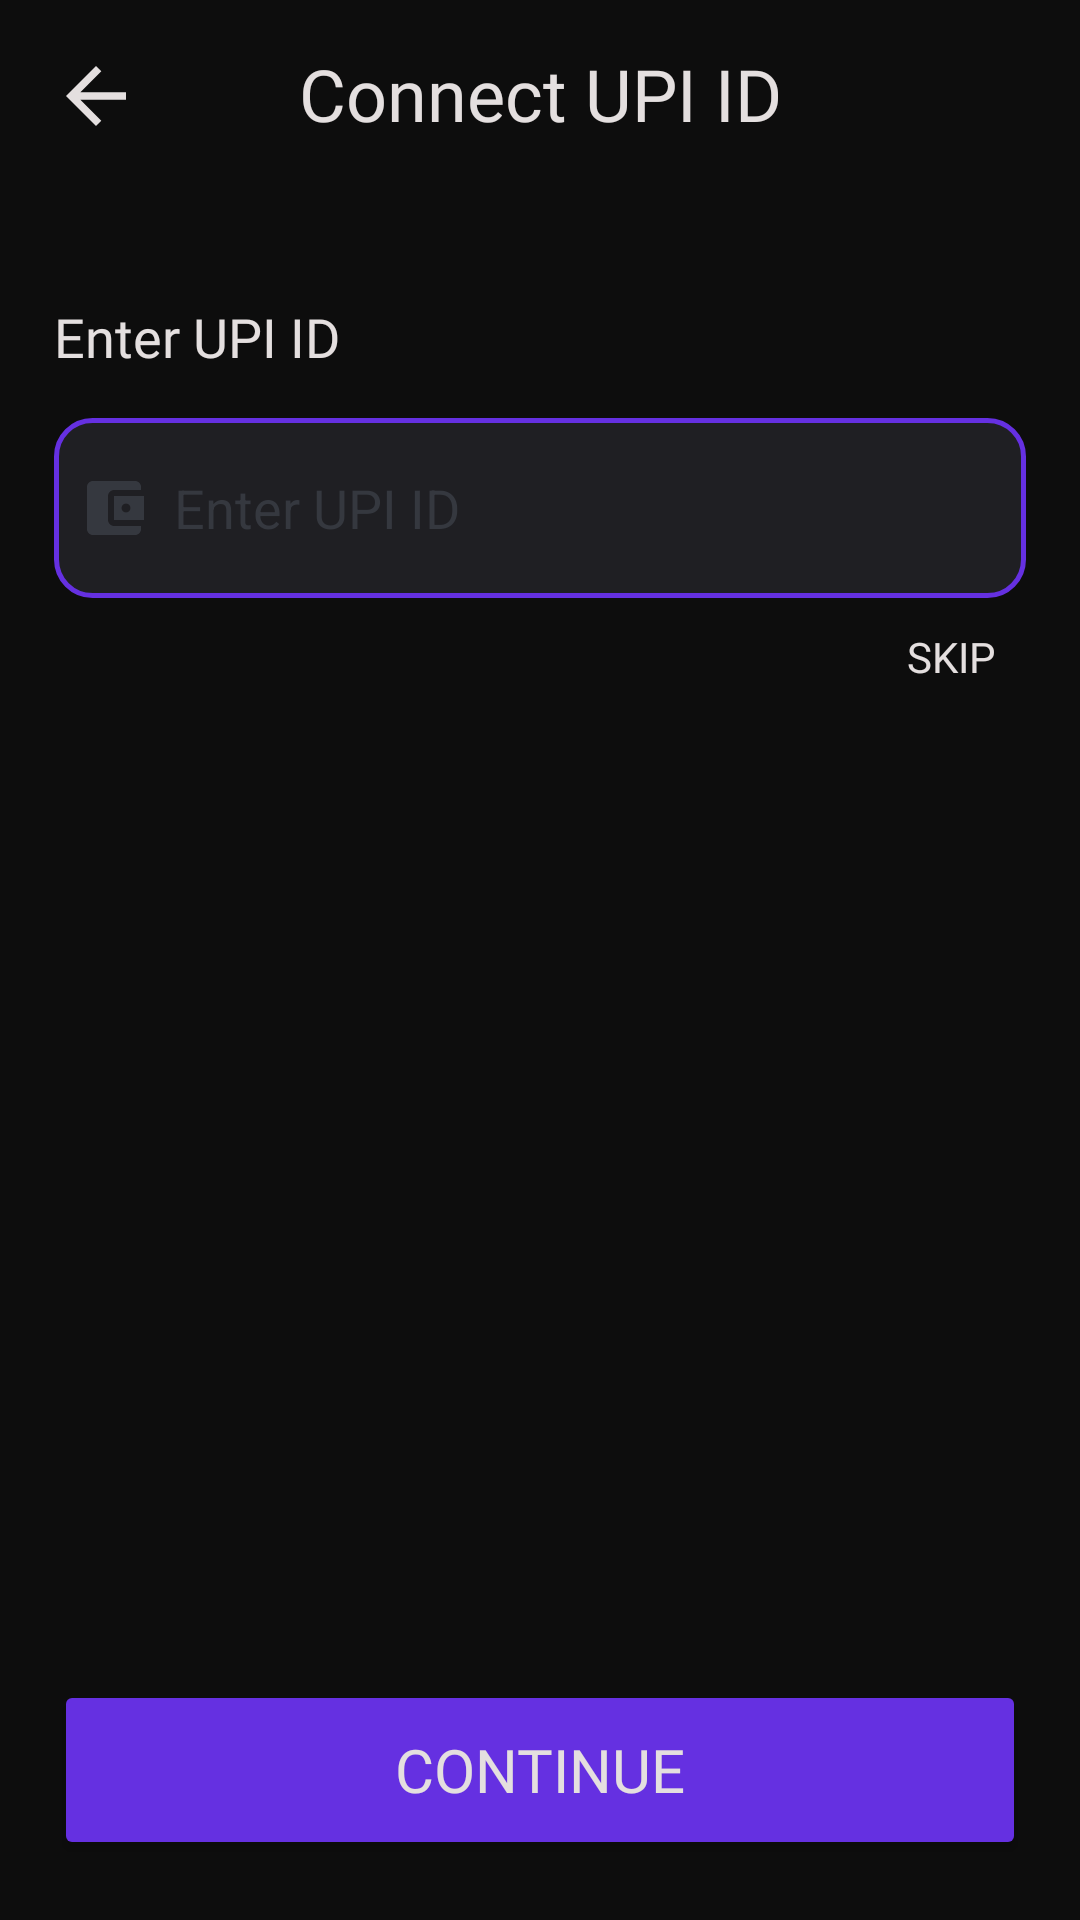

Icons on this 1080 × 1920 Android screen, each with its box as (x1, y1, x2, y2):
arrow back: (66, 66, 126, 126)
